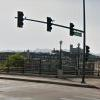Traffic light: (12, 7, 69, 43)
